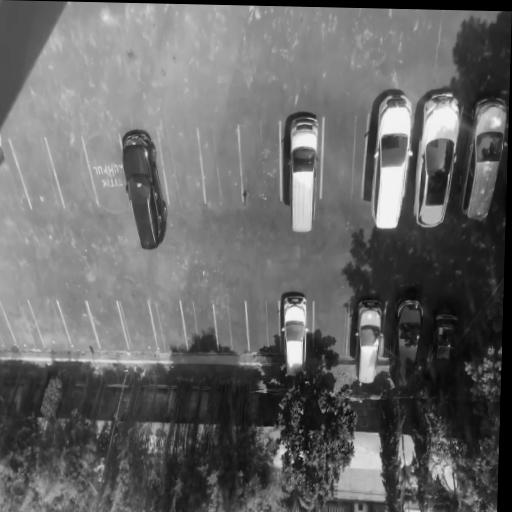Car: (412, 93, 464, 229), (457, 96, 509, 227), (369, 89, 414, 232), (120, 127, 171, 251), (386, 293, 428, 391), (416, 309, 464, 390), (288, 116, 320, 234), (352, 298, 387, 386), (279, 291, 308, 384)
Space Available: (321, 114, 369, 202), (197, 124, 245, 206), (9, 141, 64, 211), (157, 133, 205, 208), (45, 139, 96, 209), (238, 121, 282, 202), (82, 137, 128, 210), (0, 296, 43, 349), (0, 140, 32, 210), (314, 300, 350, 361), (87, 300, 128, 352), (117, 299, 157, 352), (28, 298, 70, 348), (57, 300, 99, 349), (212, 301, 250, 352), (246, 301, 281, 356), (180, 301, 217, 353), (148, 302, 187, 350), (0, 303, 17, 349)
